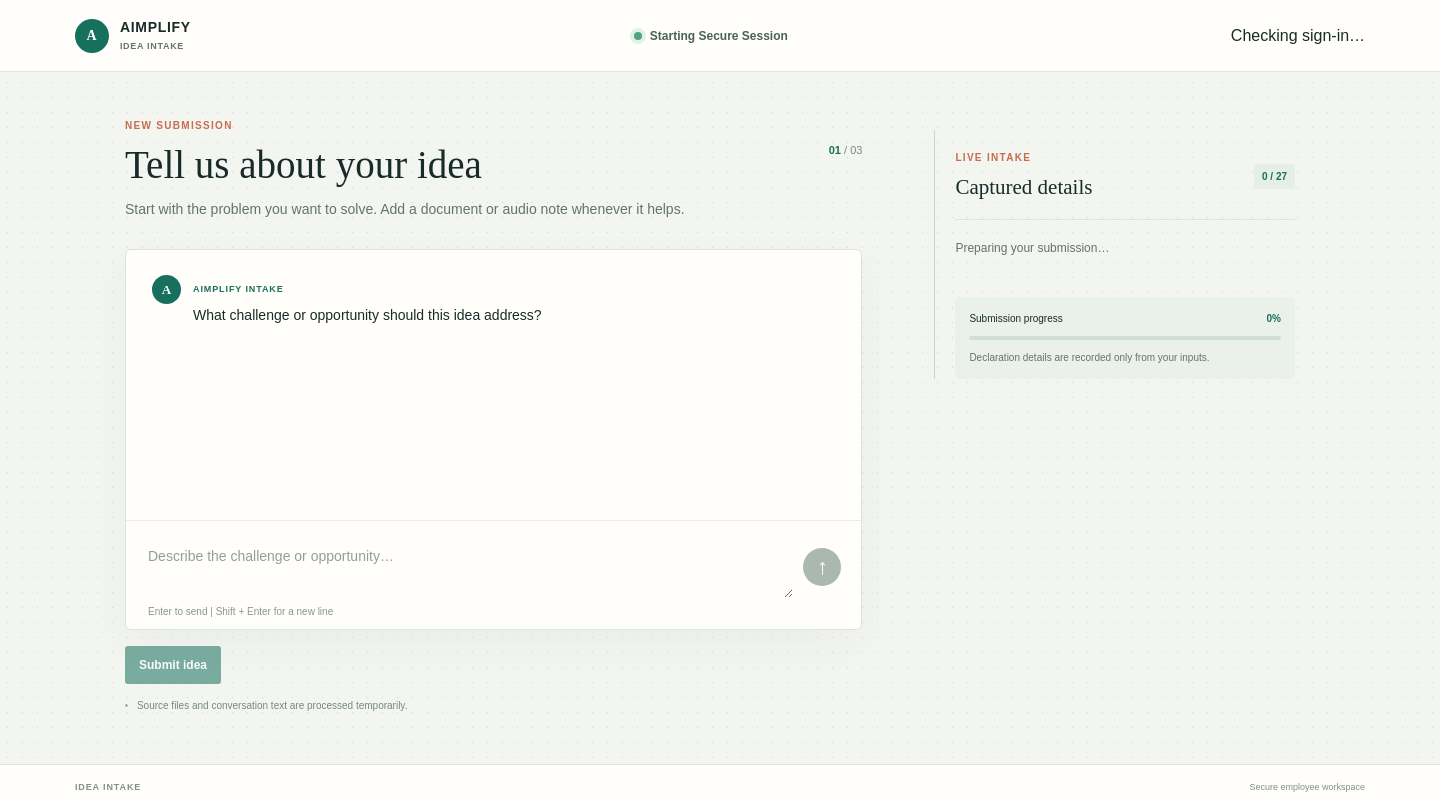
Test: safety notices › rejects malformed notice metadata as a protocol error without transport retry
Type "A qualitative request." into the text box named "message" at point(469, 567), box left=144, top=536, right=793, bottom=598
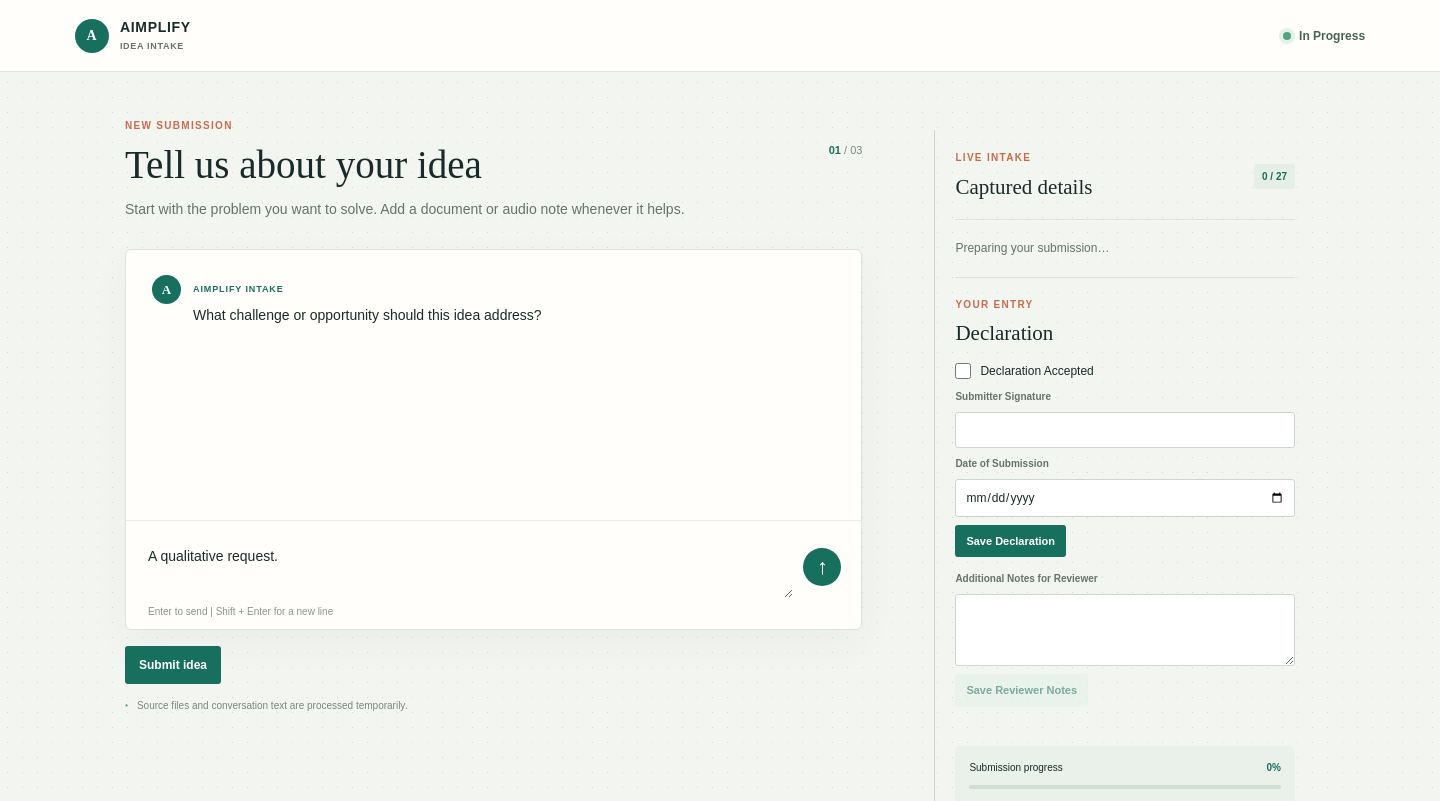
Click the button named "send" at point(822, 567), box left=803, top=548, right=841, bottom=586
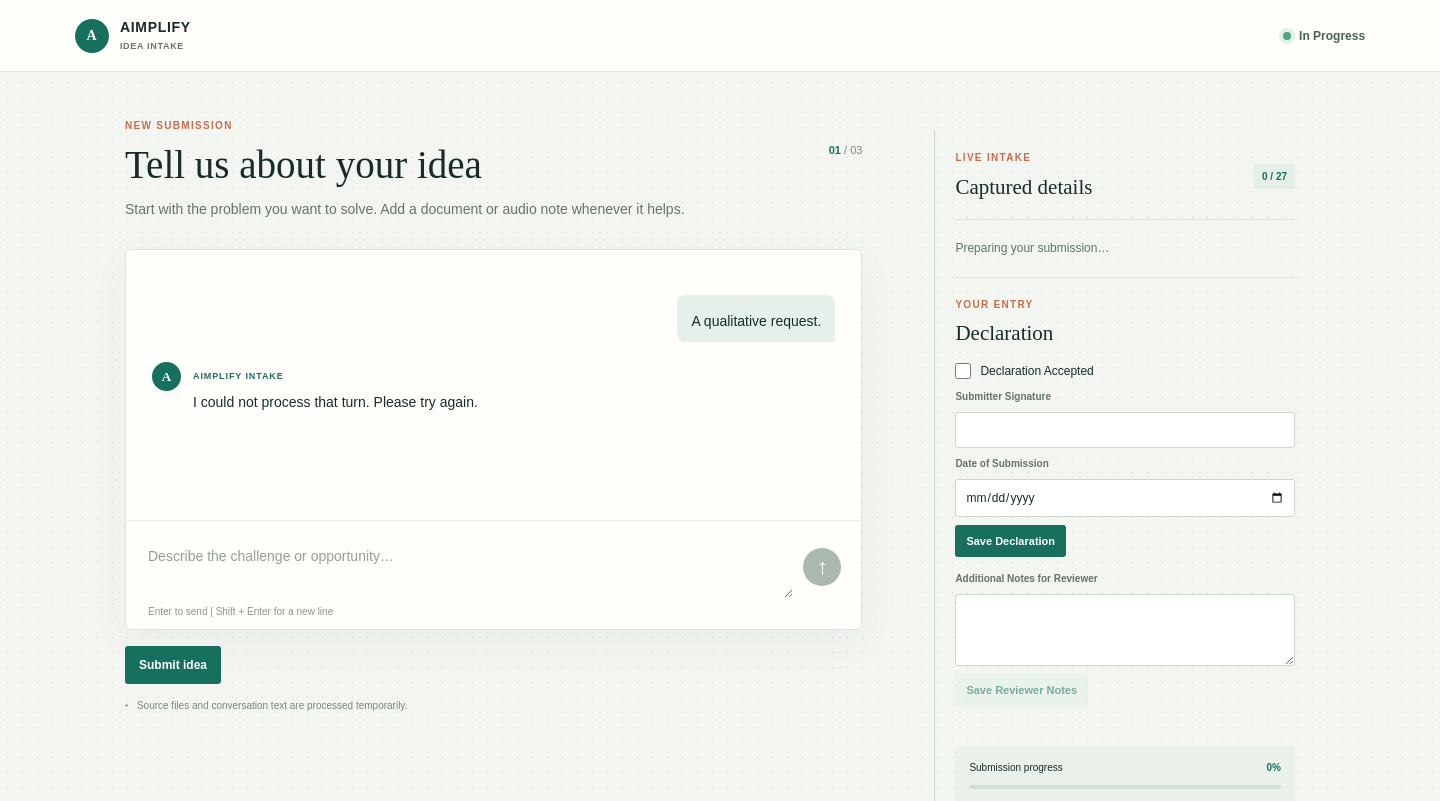
Expected: the message "Checking sign-in…" is not shown
Expected: the text "I could not process that turn. Please try again." is shown, left=193, top=391, right=478, bottom=414
